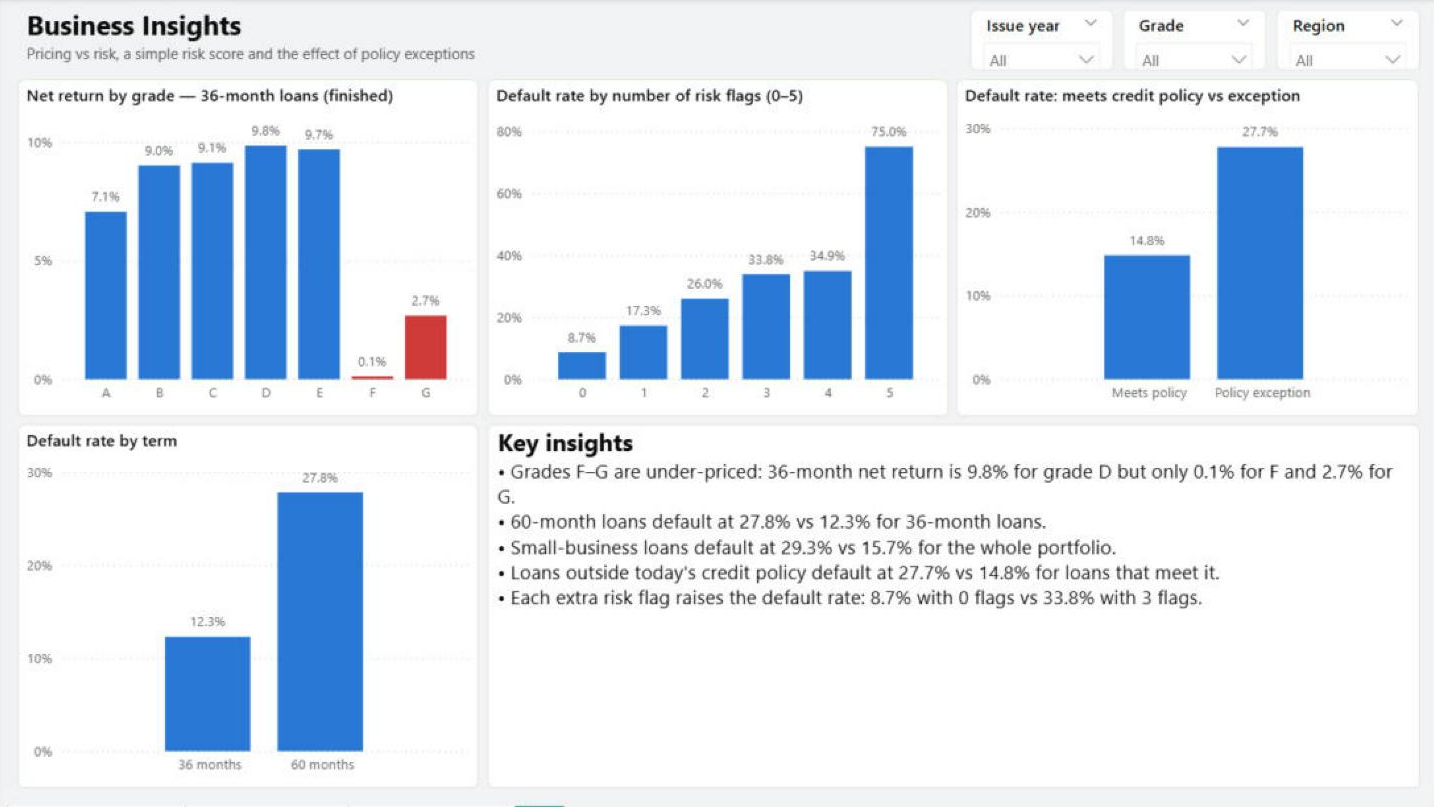

This screenshot's page, from the dashboard's own definition file:
{"tool":"powerbi","page":{"name":"Business Insights","canvas":[1280,720],"ordinal":2},"visuals":[{"type":"textbox","box":[16,8,840,56],"z":1000},{"type":"slicer","fields":{"Values":["Date.Year"]},"box":[864,10,128,54],"z":2000},{"type":"slicer","fields":{"Values":["loans.grade"]},"box":[1000,10,128,54],"z":3000},{"type":"slicer","fields":{"Values":["dim_state.region"]},"box":[1136,10,128,54],"z":4000},{"type":"clusteredColumnChart","title":"Net return by grade — 36-month loans (finished)","fields":{"Category":["loans.grade"],"Y":["_Measures.Net Return 36m %"]},"box":[16,72,410,300],"z":5000},{"type":"clusteredColumnChart","title":"Default rate by number of risk flags (0–5)","fields":{"Category":["loans.risk_flags"],"Y":["_Measures.Default Rate %"]},"box":[434,72,410,300],"z":6000},{"type":"clusteredColumnChart","title":"Default rate: meets credit policy vs exception","fields":{"Category":["loans.policy_status"],"Y":["_Measures.Default Rate %"]},"box":[852,72,412,300],"z":7000},{"type":"clusteredColumnChart","title":"Default rate by term","fields":{"Category":["loans.term_label"],"Y":["_Measures.Default Rate %"]},"box":[16,380,410,324],"z":8000},{"type":"textbox","box":[434,380,830,324],"z":9000}]}

Visuals, with their boxes in screenshot pixels (x1, y1, x2, y2), scaled from the page's 1280x720 canvas onto the 1434x807 screenshot:
textbox: bbox=[18, 9, 959, 72]
slicer - Date.Year: bbox=[968, 11, 1111, 72]
slicer - loans.grade: bbox=[1120, 11, 1264, 72]
slicer - dim_state.region: bbox=[1273, 11, 1416, 72]
"Net return by grade — 36-month loans (finished)" clusteredColumnChart: bbox=[18, 81, 477, 417]
"Default rate by number of risk flags (0–5)" clusteredColumnChart: bbox=[486, 81, 946, 417]
"Default rate: meets credit policy vs exception" clusteredColumnChart: bbox=[955, 81, 1416, 417]
"Default rate by term" clusteredColumnChart: bbox=[18, 426, 477, 789]
textbox: bbox=[486, 426, 1416, 789]
